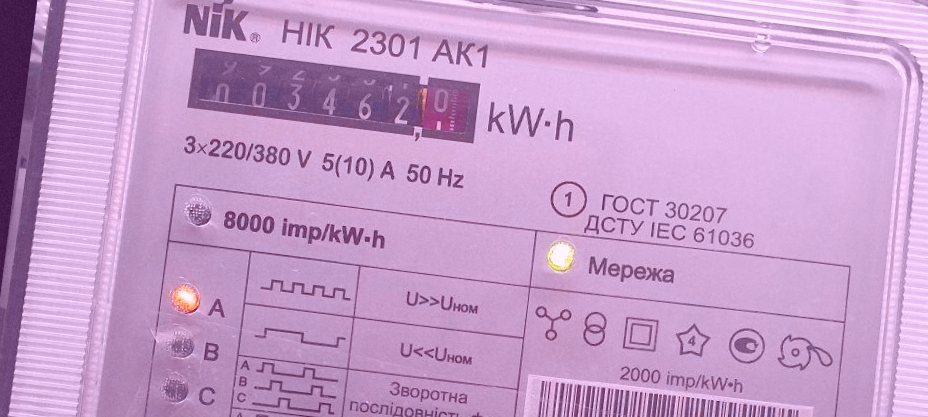0: (247, 77, 269, 108), (430, 85, 450, 115), (209, 79, 231, 104)
2: (390, 92, 412, 126)
3: (282, 80, 304, 114)
4: (319, 83, 339, 117)
6: (352, 88, 376, 124)
9: (216, 57, 238, 78)
screen: (171, 33, 492, 163)
